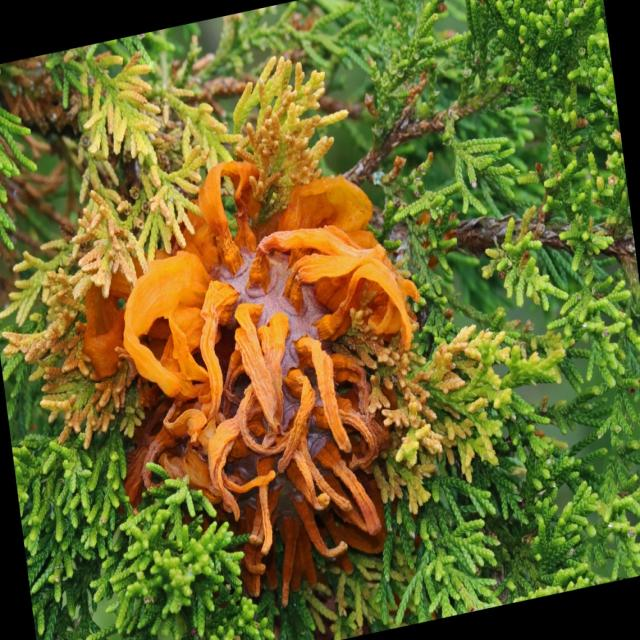Gymnosporangium_Rusts: (62, 171, 433, 545)
